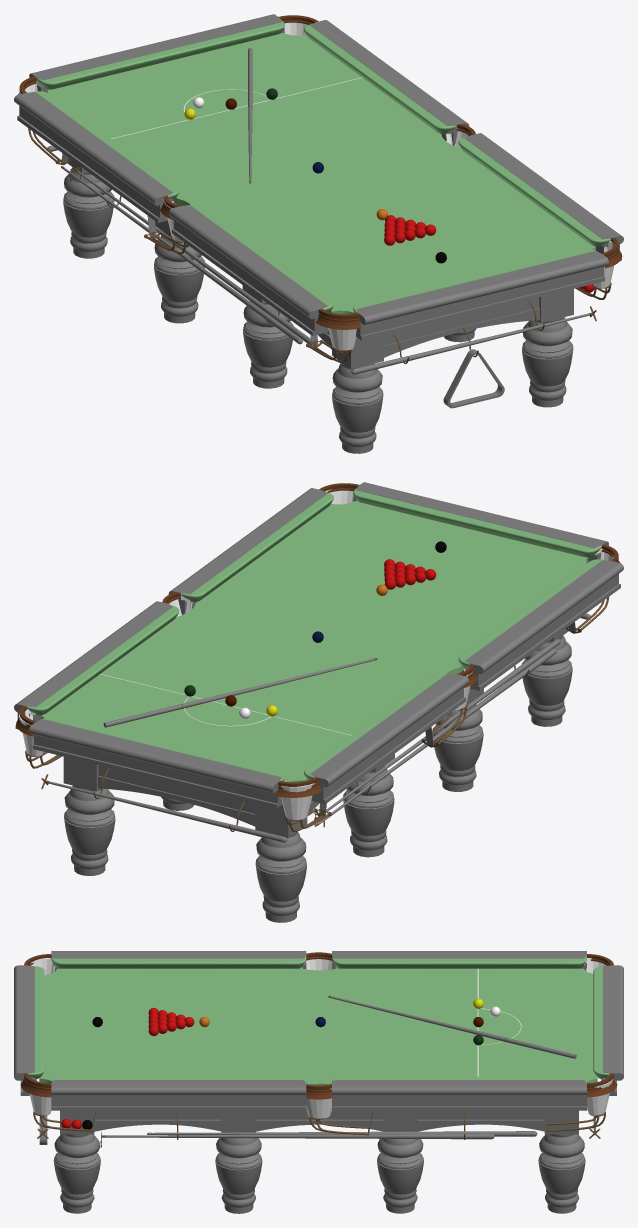
The model's file is table.FBX.
The picture shows the model from 3 angles, top to bottom: view 1: azimuth 30°, elevation 25°; view 2: azimuth 150°, elevation 25°; view 3: azimuth 270°, elevation 25°; orthographic projection. The views are drawn at different scales.
Parts seen in each view (by area): view 1: Table, keu XL, spider XL, rest X, triangle; view 2: Table, spider XL, keu XL, Cue, rest X01; view 3: Table, spider L, keu L, Cue.
Part boxes in pixels (x1,y1,x2,y2): Table: (14,14,623,453); keu XL: (61,166,302,344); spider XL: (70,166,311,346); rest X: (351,306,596,374); triangle: (443,349,504,408); Table: (14,482,623,922); spider XL: (314,638,560,827); keu XL: (314,648,556,826); Cue: (103,658,377,727); rest X01: (41,774,286,842); Table: (14,951,623,1213); spider L: (100,1132,494,1147); keu L: (147,1131,537,1136); Cue: (328,995,576,1058).
Bounding box in the file's own units: 44314 × 21988 × 81989.
